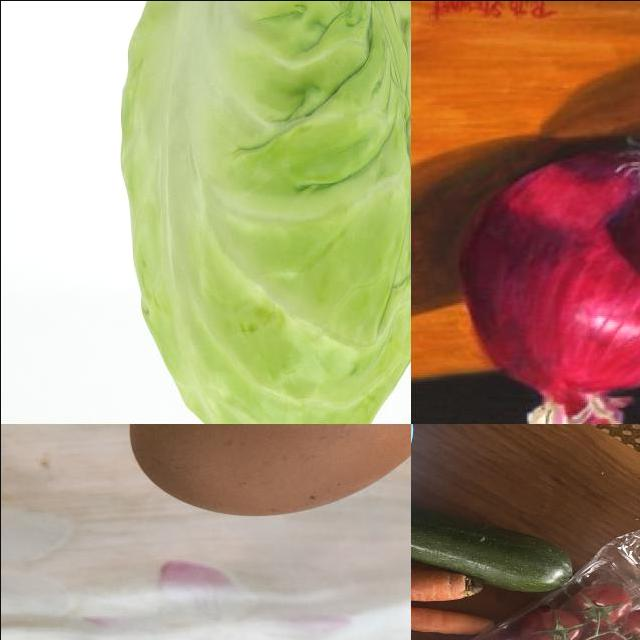cabbage: (120, 1, 411, 424)
carrot: (411, 595, 493, 640), (411, 559, 488, 606)
egg: (122, 424, 411, 521)
onion: (454, 135, 640, 424)
tomato: (567, 579, 640, 628), (508, 609, 579, 640), (625, 604, 640, 640), (572, 631, 630, 640)
zucchini: (411, 505, 577, 595)
